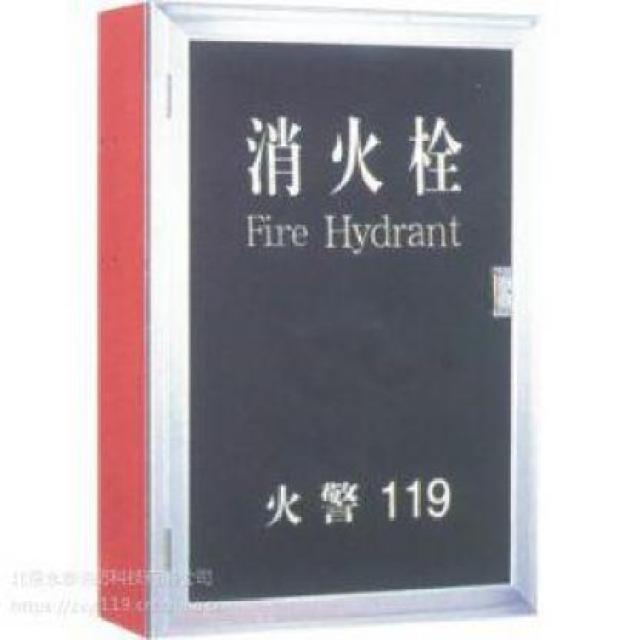firehydrant: (90, 0, 544, 640)
